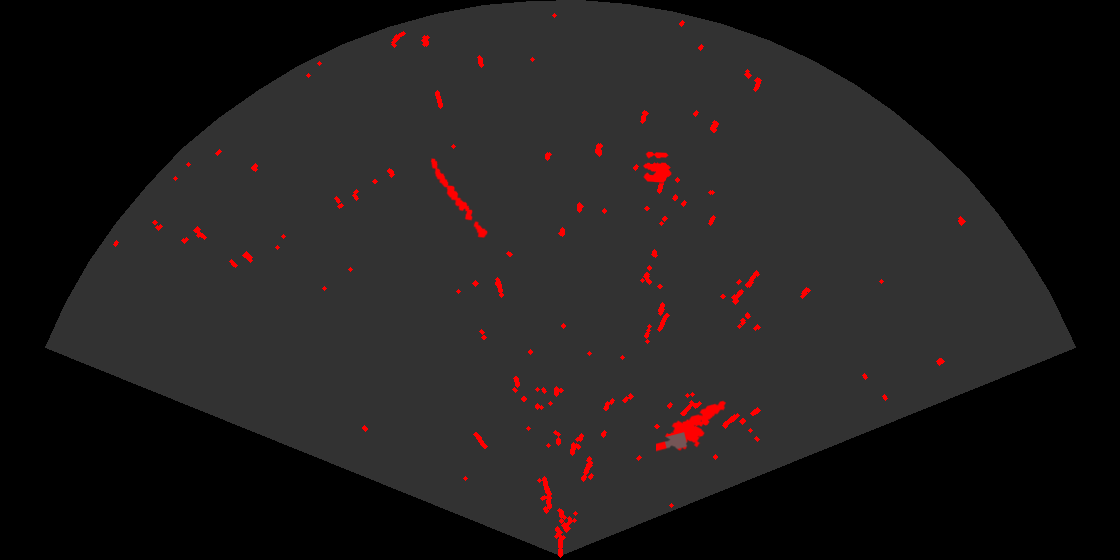ball: (641, 150, 673, 184)
chain: (429, 156, 489, 240)
frogman: (656, 399, 728, 453)
